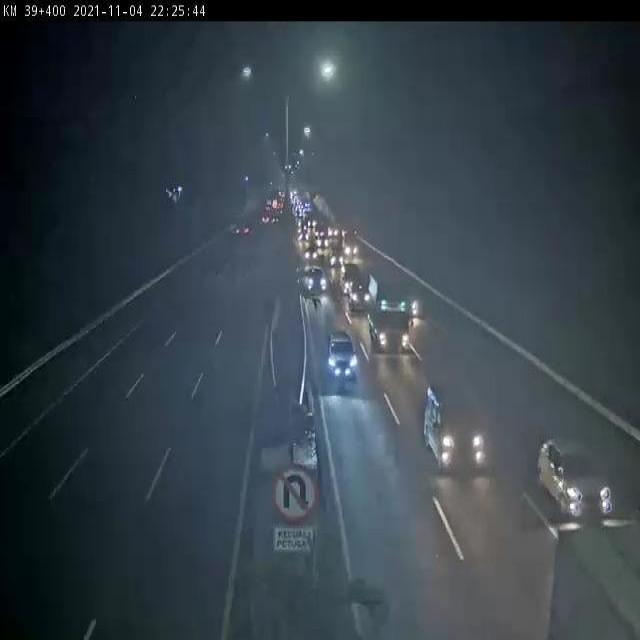car: (534, 433, 616, 523), (424, 380, 490, 471), (325, 328, 360, 381), (304, 264, 328, 296), (400, 291, 423, 321), (349, 279, 370, 309)
truck-m-: (367, 268, 411, 351)
truck-s-: (339, 263, 361, 296)
